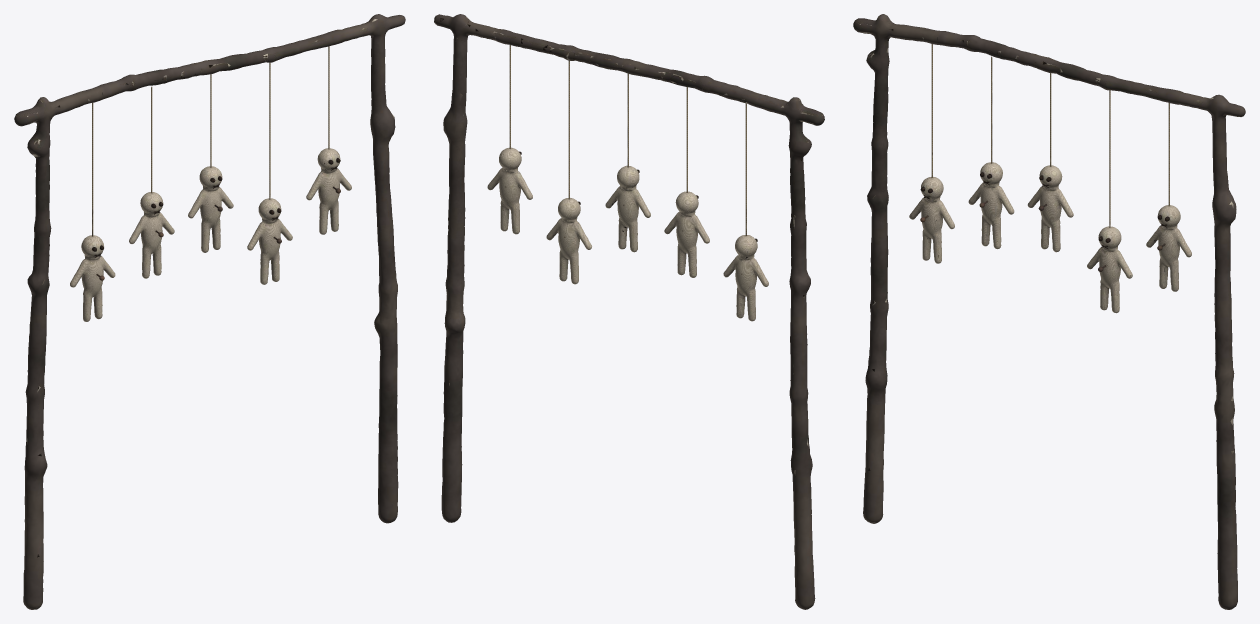
File: hanging_poppets.glb
The picture shows the model from 3 angles, left to right: view 1: azimuth 30°, elevation 25°; view 2: azimuth 150°, elevation 25°; view 3: azimuth 330°, elevation 25°; orthographic projection.
Parts seen in each view (by area): view 1: Gnarled_Frame, Poppets, Twine; view 2: Gnarled_Frame, Poppets, Twine; view 3: Gnarled_Frame, Poppets, Twine.
Boxes of the visible parts, x1,y1,x2,y2 form: Gnarled_Frame: [14, 14, 405, 609]; Poppets: [70, 148, 351, 321]; Twine: [92, 46, 329, 236]; Gnarled_Frame: [434, 14, 824, 609]; Poppets: [487, 147, 768, 321]; Twine: [509, 45, 746, 235]; Gnarled_Frame: [853, 14, 1245, 609]; Poppets: [909, 162, 1191, 313]; Twine: [931, 44, 1169, 227].
Bounding box in the file's own units: 1.98 × 2.48 × 0.157.
Materials: 1 (1 with a texture image).
